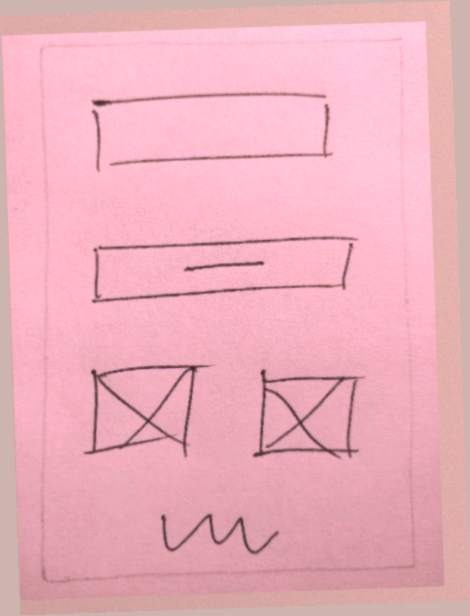button: (83, 227, 363, 310)
image: (80, 359, 216, 467), (246, 358, 368, 472)
text: (149, 495, 285, 567)
text_input: (84, 81, 344, 179)
